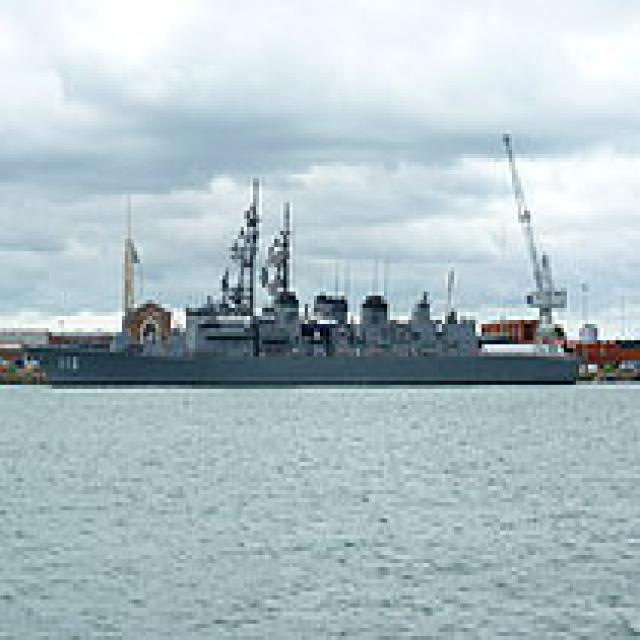Warship: (18, 174, 579, 385)
